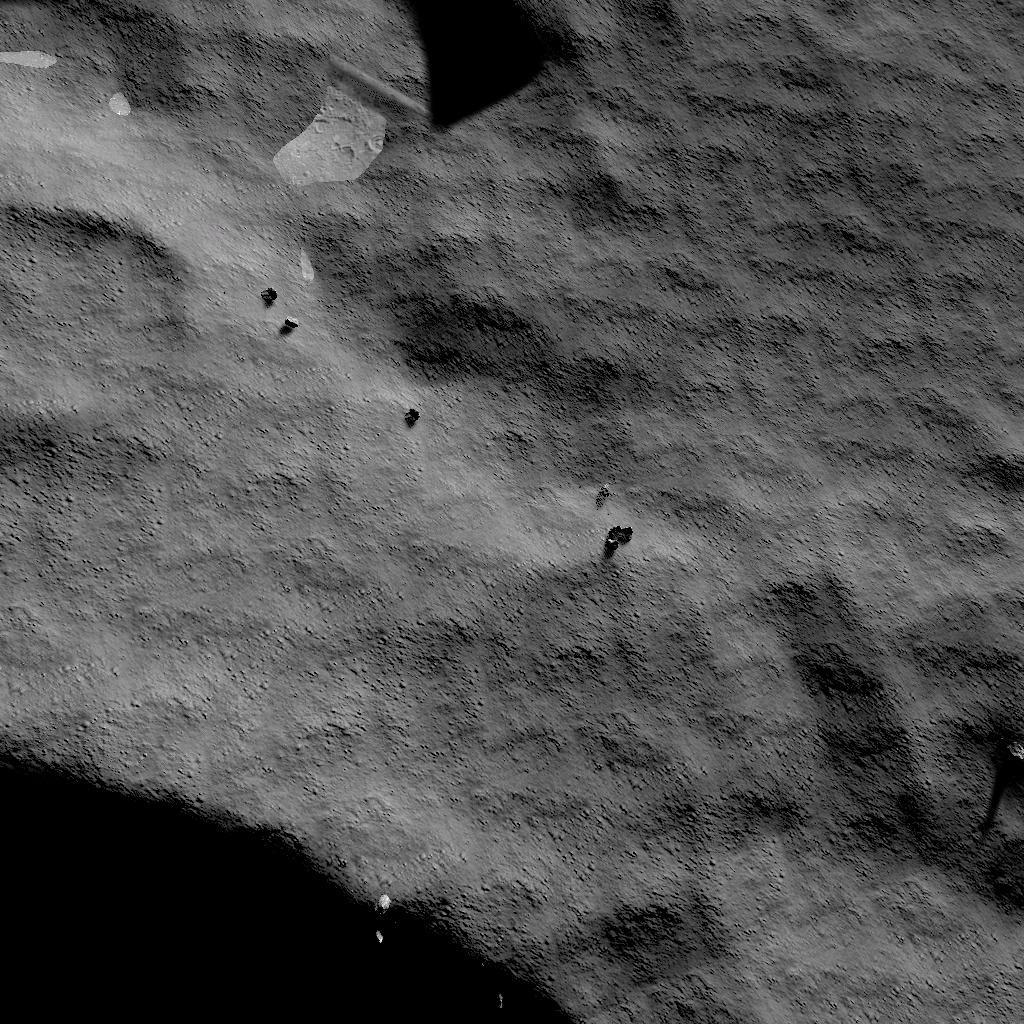Crater: (0, 772, 459, 1024), (267, 0, 543, 200), (0, 207, 200, 473), (0, 0, 187, 186)
Plan surface: (559, 2, 1024, 505), (633, 516, 973, 1024), (0, 518, 567, 760)
